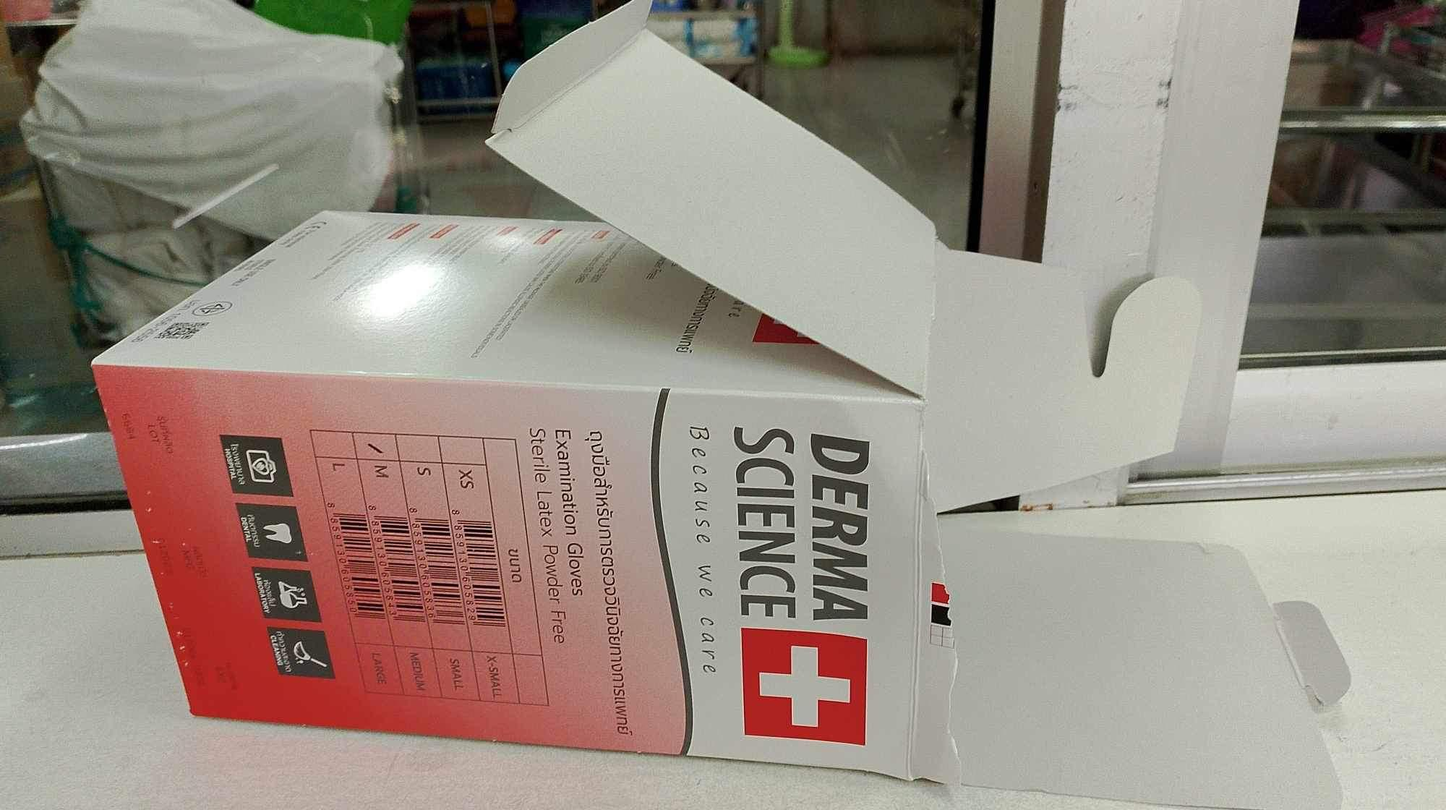General: (88, 205, 963, 785)
Sharps: (166, 158, 283, 234)
